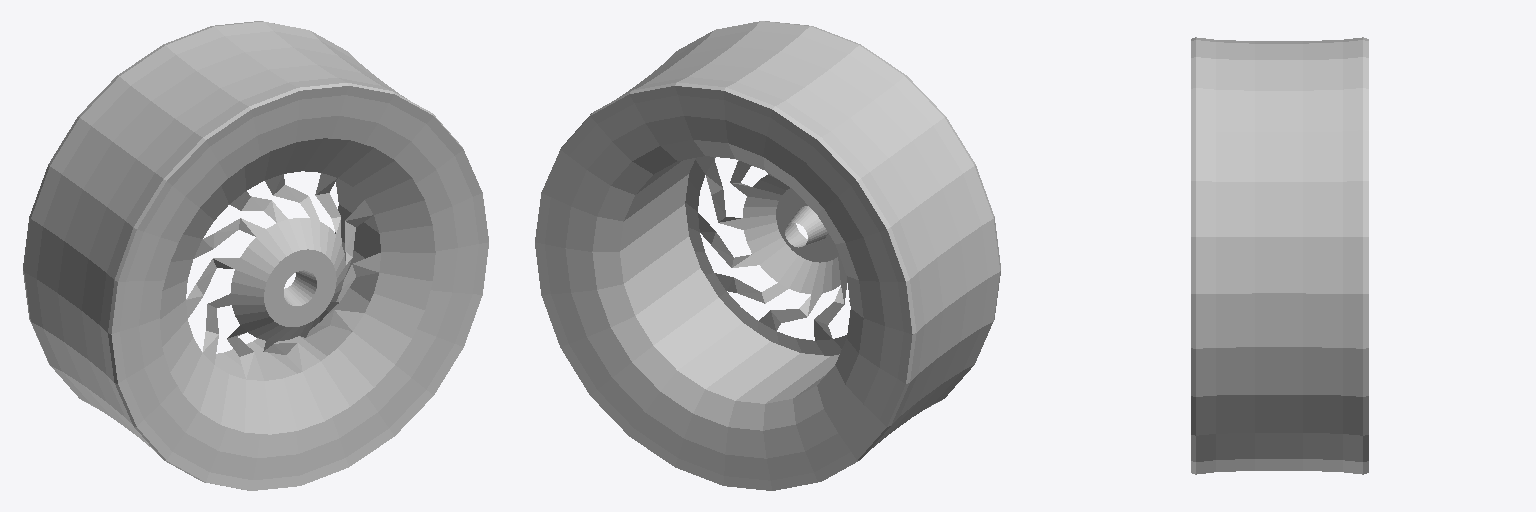
File: Wheel.obj
3 renders of one model, left to right at view 1: azimuth 30°, elevation 25°; view 2: azimuth 150°, elevation 25°; view 3: azimuth 270°, elevation 25°, orthographic.
Parts seen in each view (by area): view 1: Tire, Wheel, loftedSurface2; view 2: Tire, loftedSurface2, Wheel; view 3: Tire.
Part boxes in pixels (x1,y1,x2,y2): Tire: (23, 21, 488, 490); Wheel: (160, 138, 435, 434); loftedSurface2: (215, 178, 380, 380); Tire: (535, 21, 1000, 490); loftedSurface2: (620, 158, 839, 403); Wheel: (685, 156, 849, 355); Tire: (1191, 37, 1368, 474).
Size of the model in its own units: 6.59 by 6.59 by 2.66.